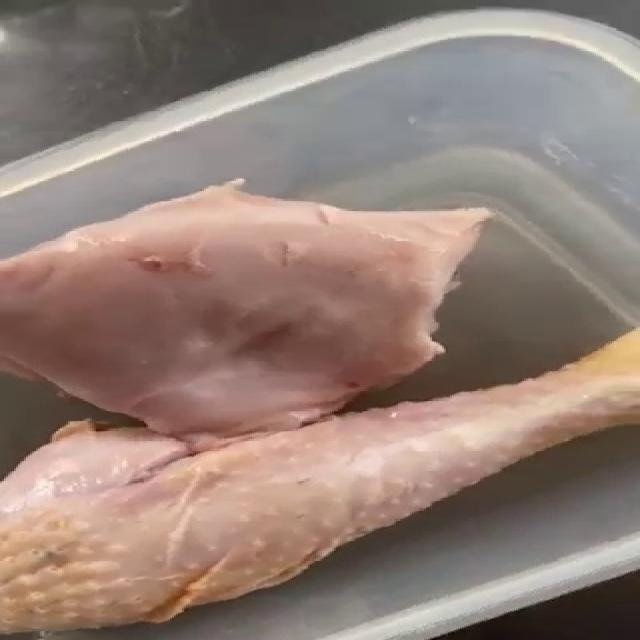chicken: (0, 175, 495, 448)
